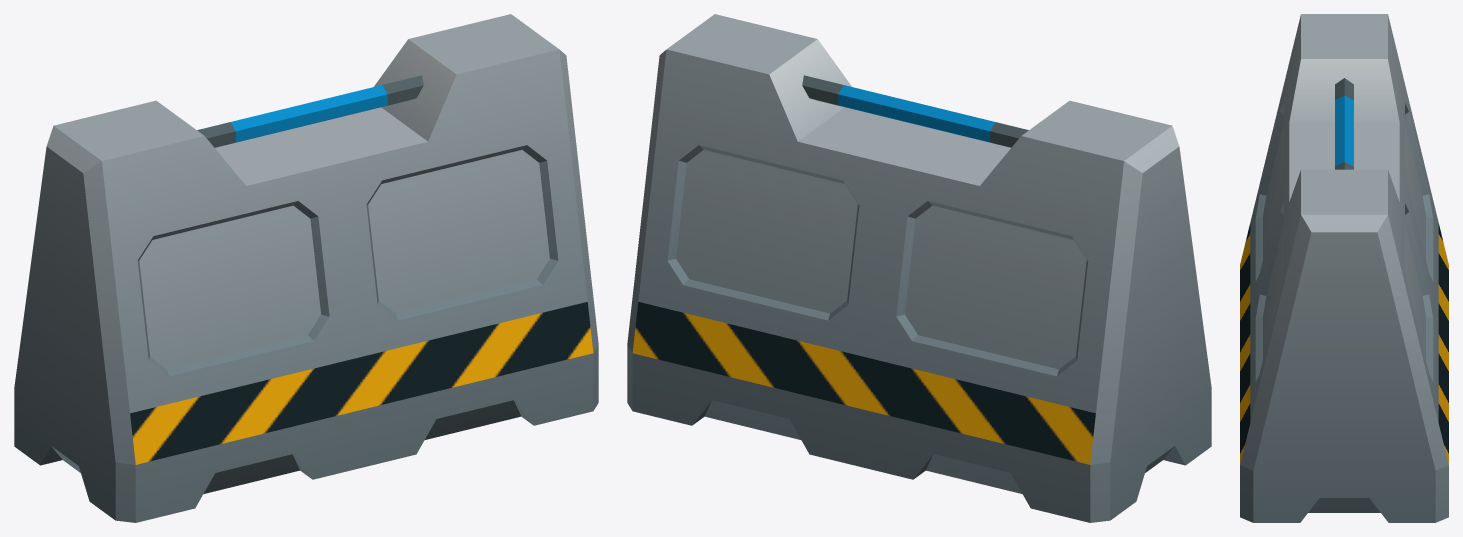
File: Barriaer_002.fbx
3 renders of one model, left to right at view 1: azimuth 30°, elevation 25°; view 2: azimuth 150°, elevation 25°; view 3: azimuth 270°, elevation 25°, orthographic. The views are drawn at different scales.
Parts seen in each view (by area): view 1: Barriaer_002; view 2: Barriaer_002; view 3: Barriaer_002.
Part boxes in pixels (x1,y1,x2,y2): Barriaer_002: (14, 14, 598, 522); Barriaer_002: (627, 14, 1211, 522); Barriaer_002: (1240, 14, 1448, 522).
Size of the model in its own units: 120 by 50 by 80.
